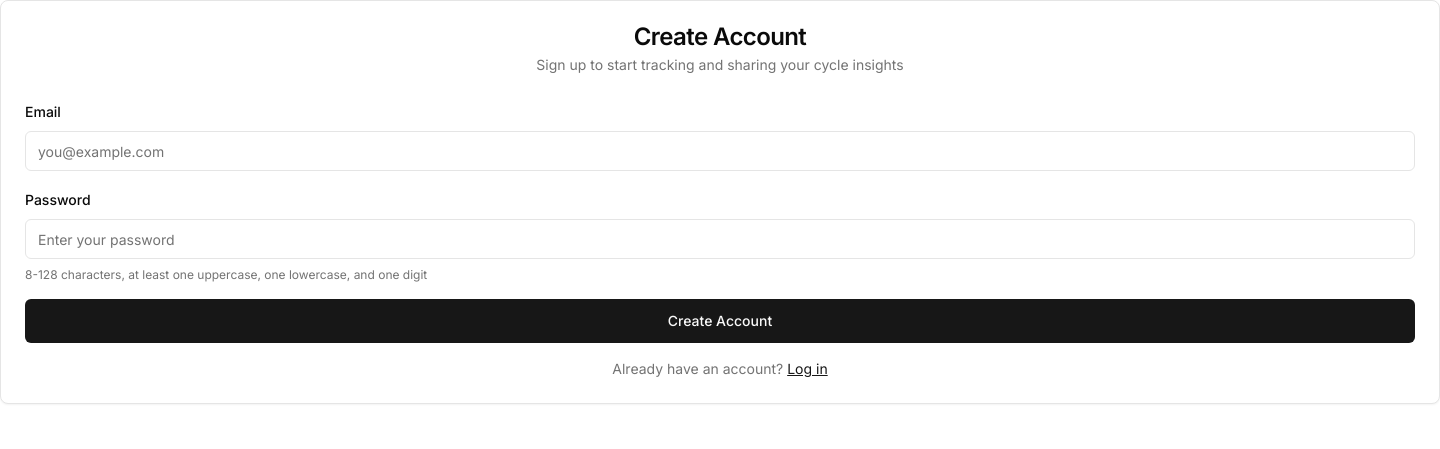
Test case: RegisterPage › shows email in use error from API
In the field labelled "Email": (720, 151) [25,131,1415,171], type "taken@example.com"
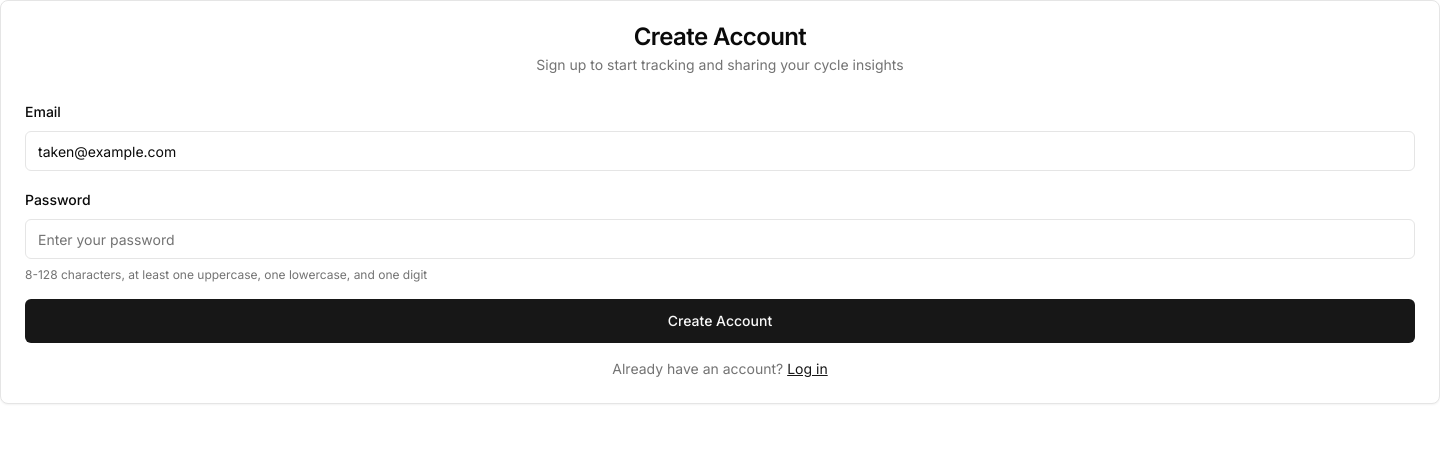
In the password field labelled "Password": (720, 239) [25,219,1415,259], type "ValidPass1"
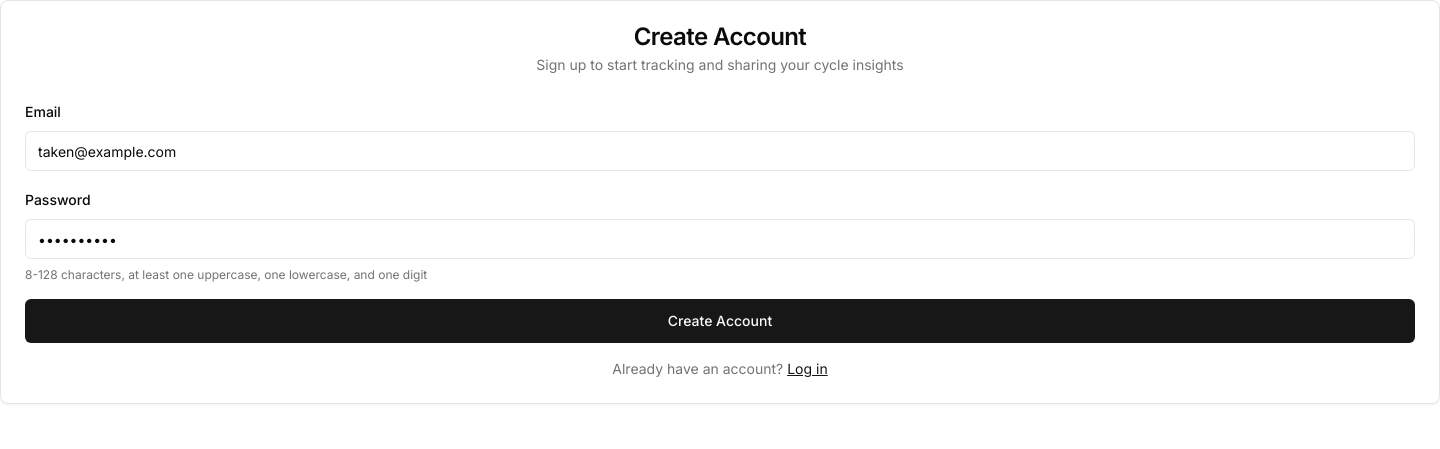
Click the button "Create Account": (720, 321) [25,299,1415,343]
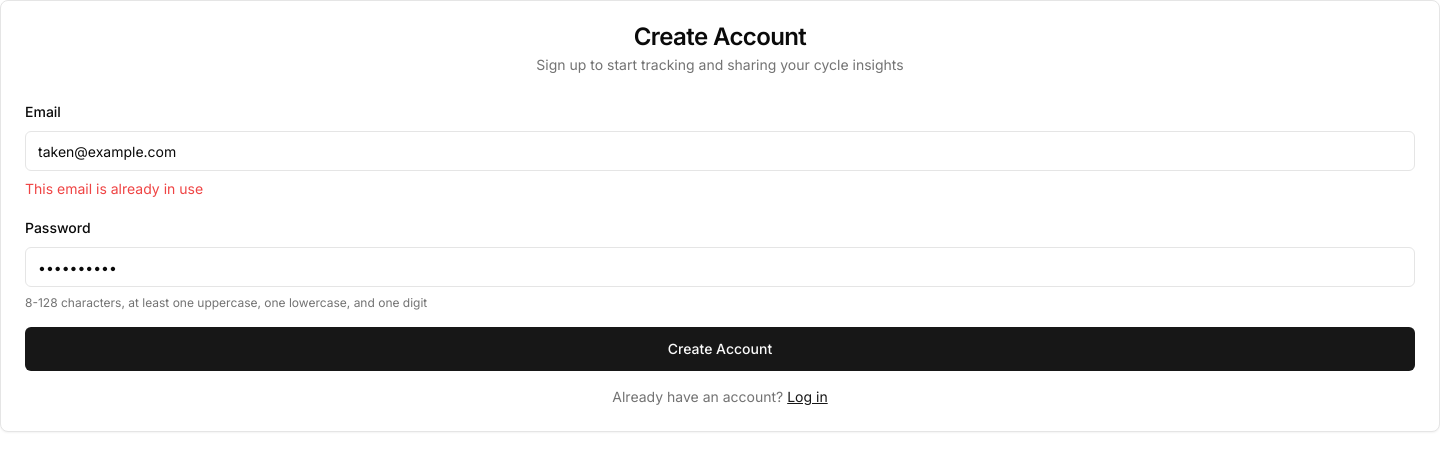
Check: the text "This email is already in use" is shown, box [25,180,203,197]
